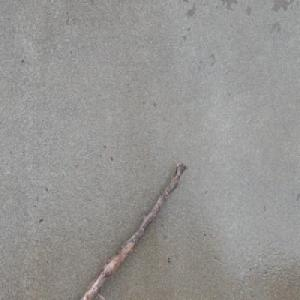Wood: (74, 160, 188, 300)
